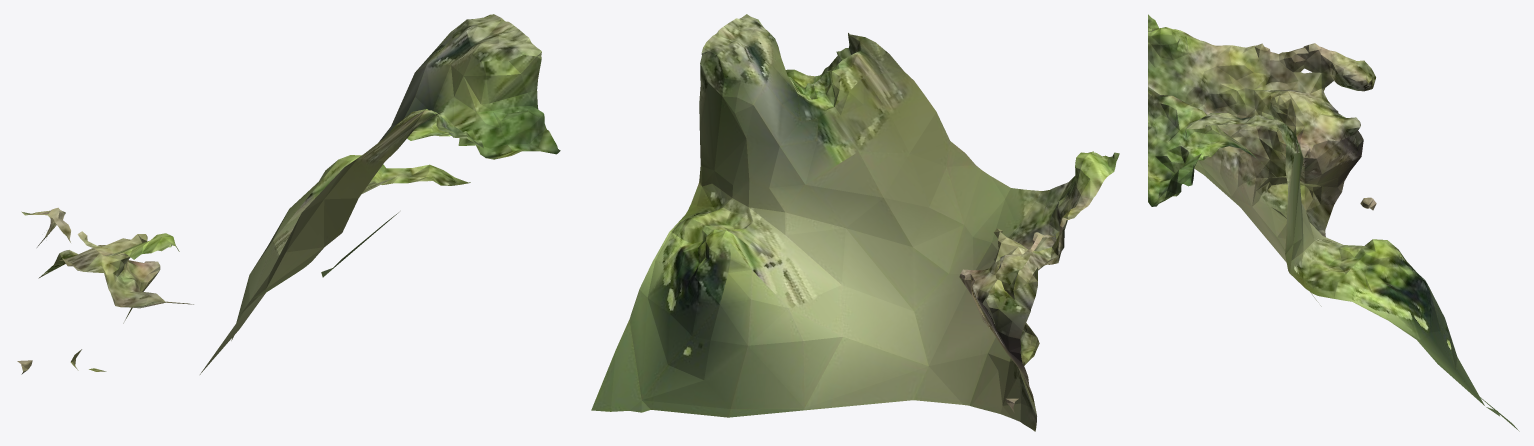
The picture shows the model from 3 angles, left to right: view 1: azimuth 30°, elevation 25°; view 2: azimuth 150°, elevation 25°; view 3: azimuth 270°, elevation 25°; orthographic projection. The views are drawn at different scales.
Bounding box in the file's own units: 26.11 × 20.17 × 22.09.
3 materials, 3 textured.
